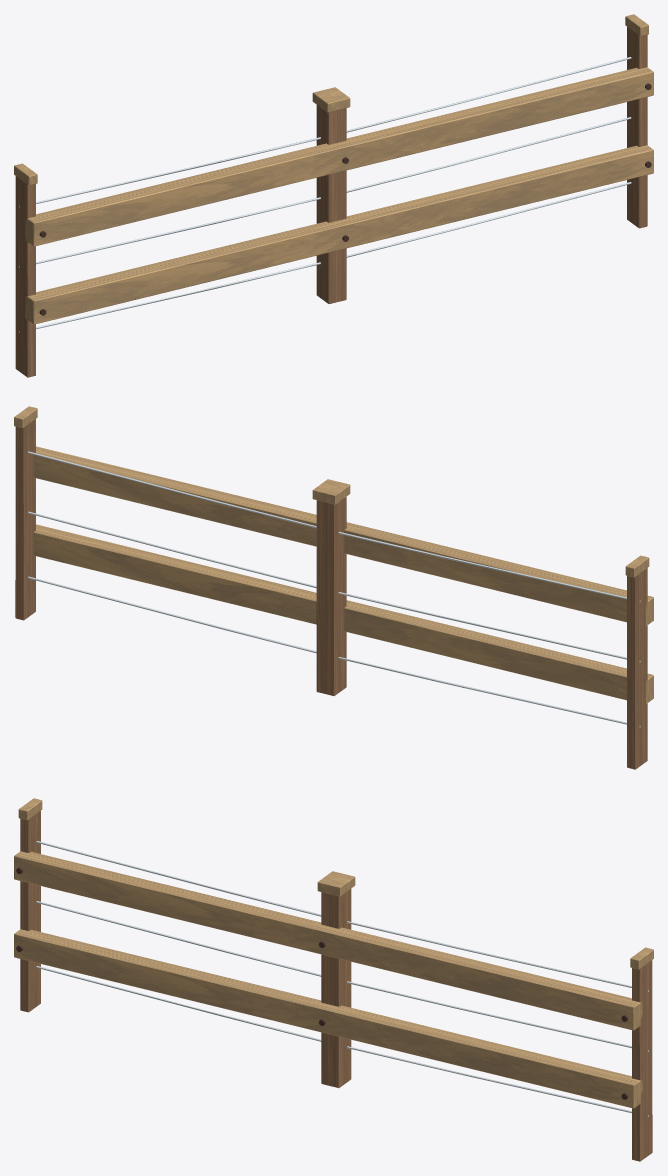
File: fence.glb
3 renders of one model, top to bottom at view 1: azimuth 30°, elevation 25°; view 2: azimuth 150°, elevation 25°; view 3: azimuth 330°, elevation 25°, orthographic.
Visible parts, largest first — view 1: fence; view 2: fence; view 3: fence.
Part boxes in pixels (<box>): fence: <box>14,14,653,377</box>; fence: <box>14,406,653,769</box>; fence: <box>14,798,653,1161</box>.
Bounding box in the file's own units: 4 × 1.25 × 0.2494.
Materials: 1 (1 with a texture image).
